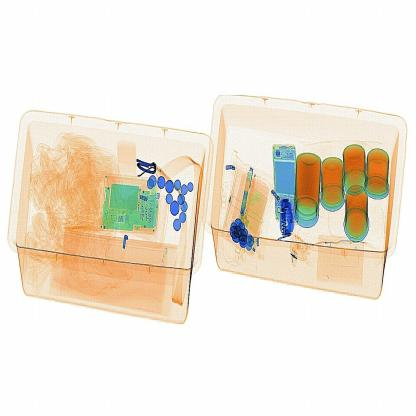scissors: (278, 198, 296, 238)
